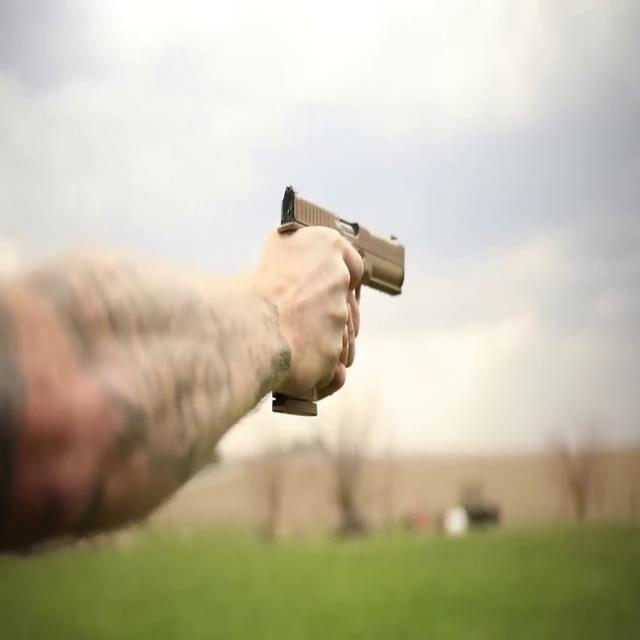Handgun: (264, 175, 419, 422)
